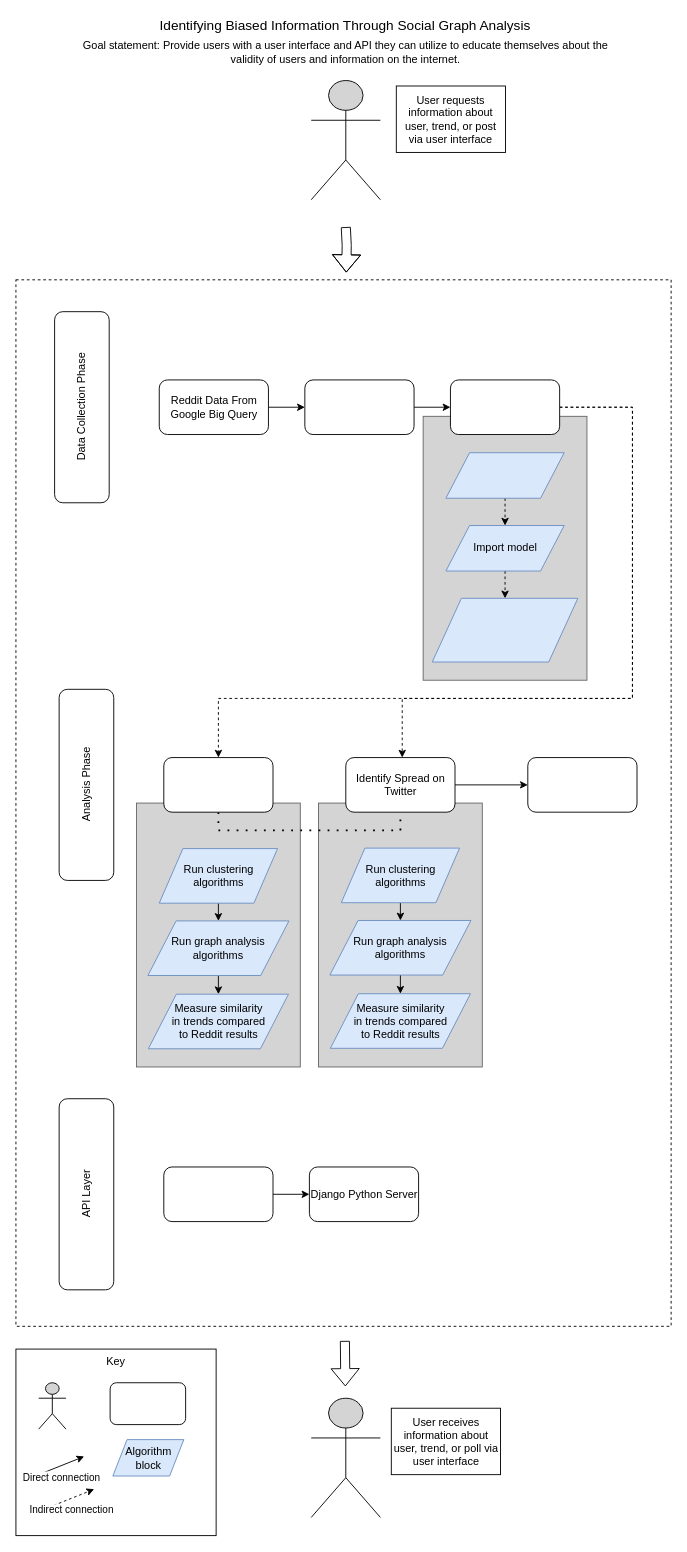
Some shapes in this 687 by 1552 pixel diagram are drawn without their labels. Here are the shapes that lost their labels. From the top down, the centre of each, then its label:
At [359,407]: "NewsGuard Dataset Add to Google Big Query".
At [505,407]: "Big Query ML".
At [504,475]: "Create model".
At [504,629]: "Use model to predict validity of user activity. posts, and/or trends".
At [218,784]: "Identify Spread on Facebook".
At [582,784]: "Store Results in PostgreSQL".
At [218,1194]: "Store URLs and Scores in PostgreSQL Database".
At [52,1405]: "User".
At [147,1403]: "Process block".
